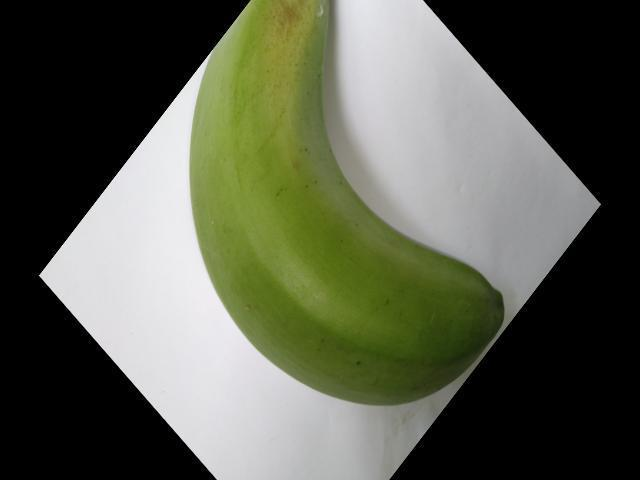freshunripe: (176, 0, 503, 414)
